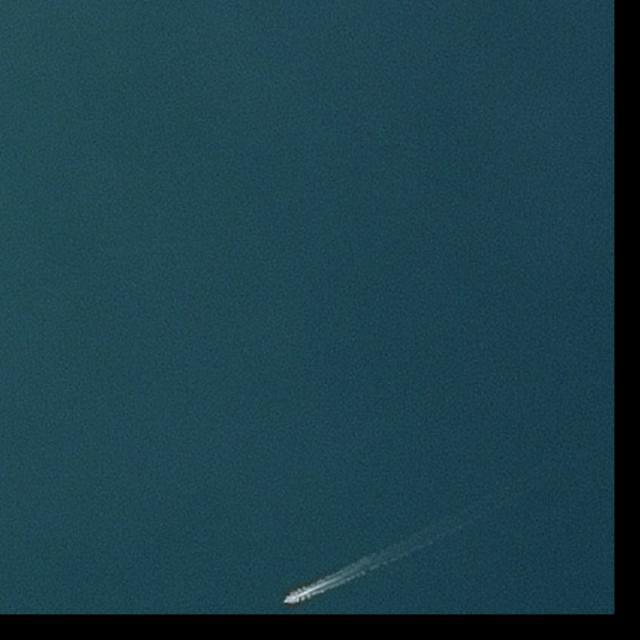ship: (284, 597, 292, 603)
